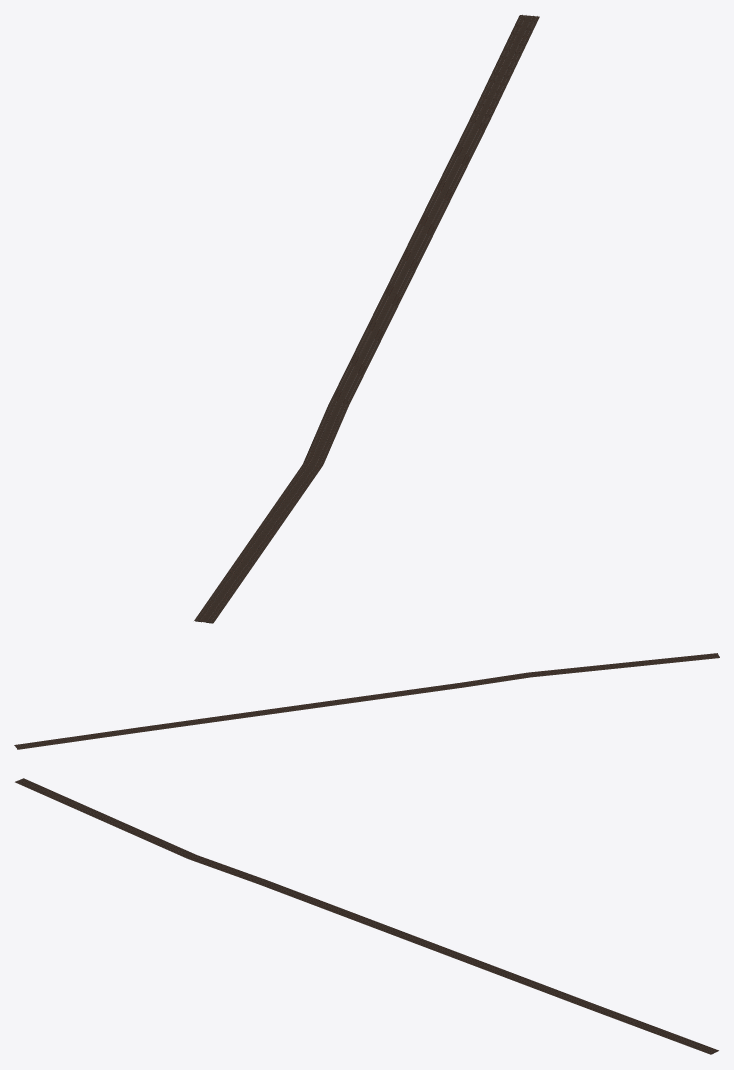
File: kobe_0043.glb
The picture shows the model from 3 angles, top to bottom: view 1: azimuth 30°, elevation 25°; view 2: azimuth 150°, elevation 25°; view 3: azimuth 270°, elevation 25°; orthographic projection. The views are drawn at different scales.
Parts seen in each view (by area): view 1: ballast_top, oxidised_rail_profiles; view 2: ballast_top, oxidised_rail_profiles, ballast_left; view 3: ballast_top, oxidised_rail_profiles.
Boxes of the visible parts, bbox=[...] form: ballast_top: bbox=[194, 15, 539, 623]; oxidised_rail_profiles: bbox=[196, 15, 537, 622]; ballast_top: bbox=[14, 653, 719, 748]; oxidised_rail_profiles: bbox=[15, 653, 719, 748]; ballast_left: bbox=[17, 657, 719, 749]; ballast_top: bbox=[15, 778, 718, 1054]; oxidised_rail_profiles: bbox=[16, 778, 717, 1053].
Size of the model in its own units: 373 by 0.819 by 402.
4 materials, 3 textured.
